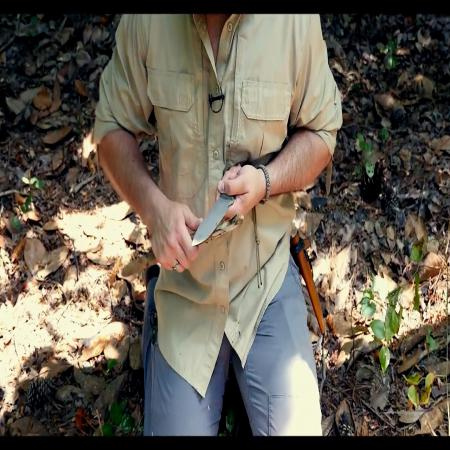long weapon: (189, 161, 246, 251)
